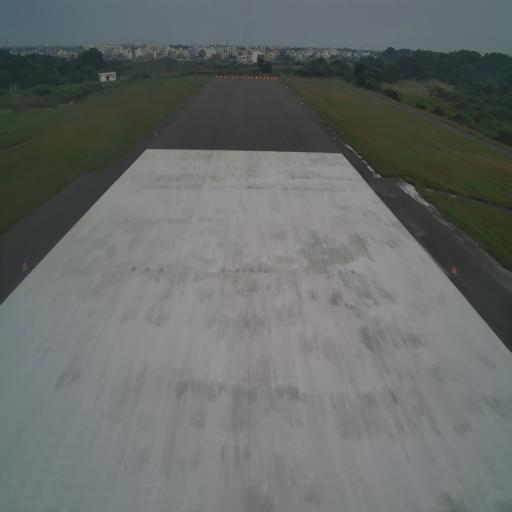on: (450, 263, 459, 278), (20, 260, 29, 274)
